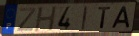4: (56, 5, 72, 32)
A: (111, 5, 132, 30)
H: (33, 6, 58, 34)
I: (81, 5, 89, 31)
T: (97, 6, 112, 30)
Z: (16, 7, 37, 32)
